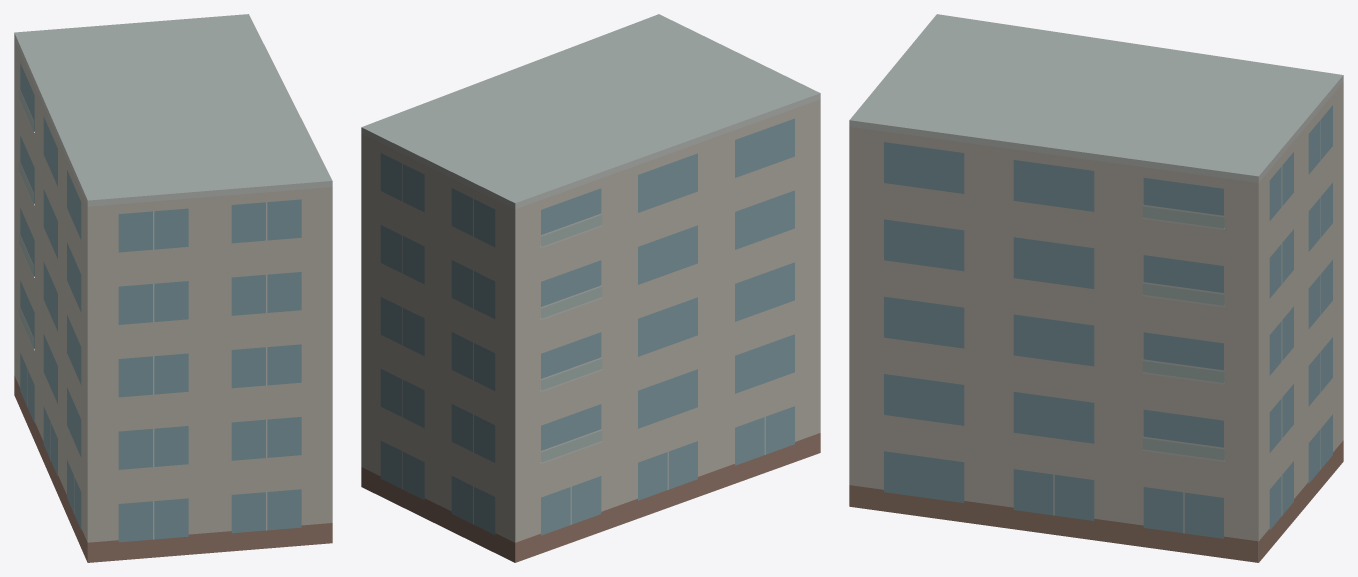
Rendered from survey-upis-32894370.glb.
The picture shows the model from 3 angles, left to right: view 1: azimuth 30°, elevation 25°; view 2: azimuth 150°, elevation 25°; view 3: azimuth 270°, elevation 25°; orthographic projection. The views are drawn at different scales.
Parts seen in each view (by area): view 1: survey-upis-32894370.tmp; view 2: survey-upis-32894370.tmp; view 3: survey-upis-32894370.tmp.
Boxes of the visible parts, x1,y1,x2,y2 form: survey-upis-32894370.tmp: [14, 14, 332, 562]; survey-upis-32894370.tmp: [361, 14, 820, 562]; survey-upis-32894370.tmp: [849, 14, 1343, 562].
Size of the model in its own units: 13.06 by 14.48 by 16.79.
